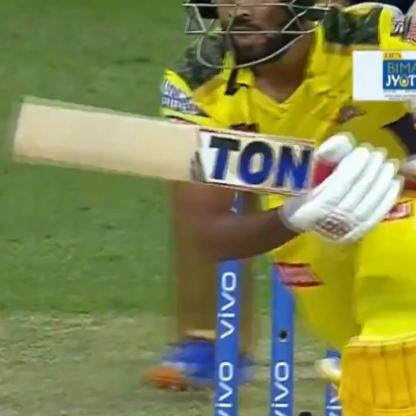bat: (4, 80, 400, 236)
